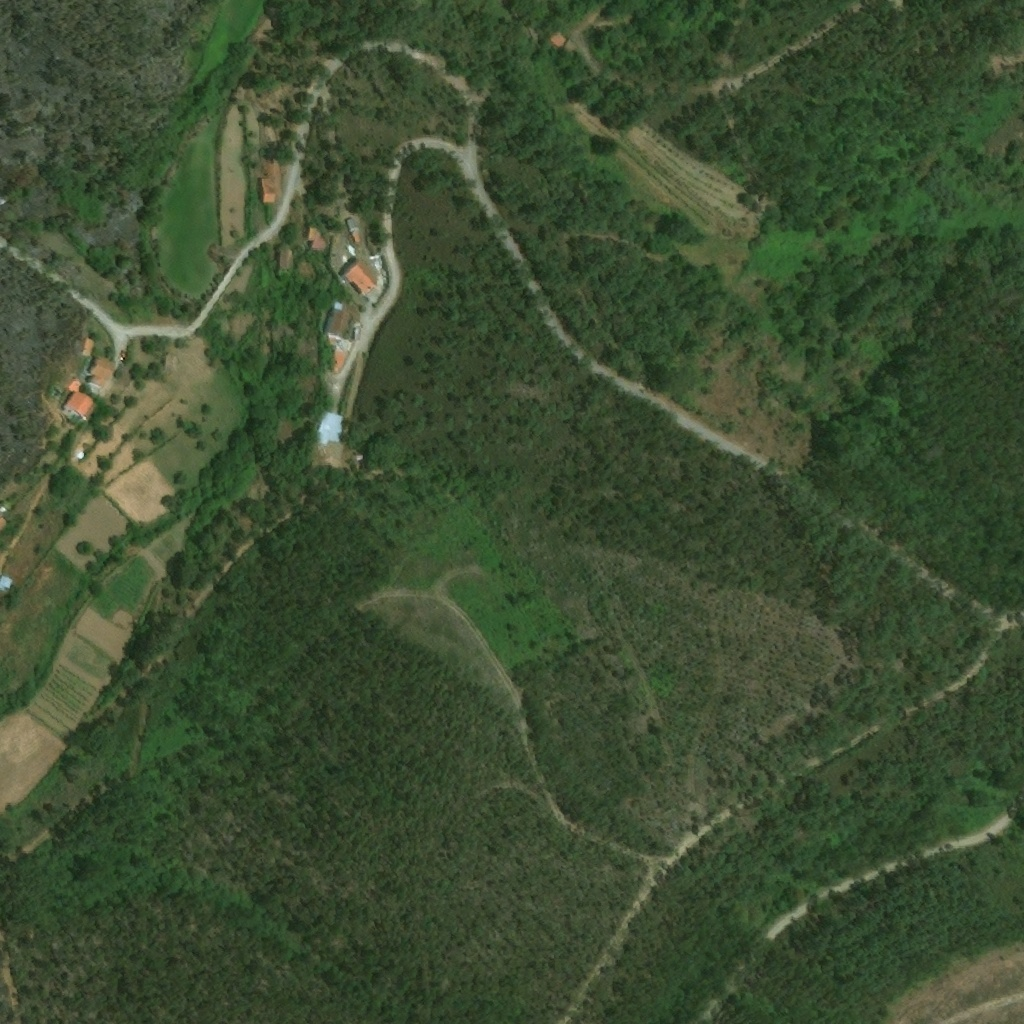0 no-damage: (342, 255, 380, 295), (63, 390, 101, 421), (315, 410, 345, 446), (86, 353, 116, 388), (305, 226, 331, 253), (327, 308, 350, 338), (0, 499, 16, 534), (332, 346, 349, 376), (64, 373, 85, 395), (547, 29, 568, 50), (366, 225, 381, 252), (262, 179, 277, 203), (279, 246, 293, 270), (0, 572, 16, 592), (346, 215, 359, 231), (83, 336, 95, 352), (325, 334, 342, 345), (353, 322, 362, 342), (351, 455, 362, 471), (350, 229, 361, 244), (346, 245, 355, 257), (334, 302, 343, 311), (116, 363, 123, 372), (369, 255, 379, 260)
4 un-classified: (523, 23, 544, 46)
